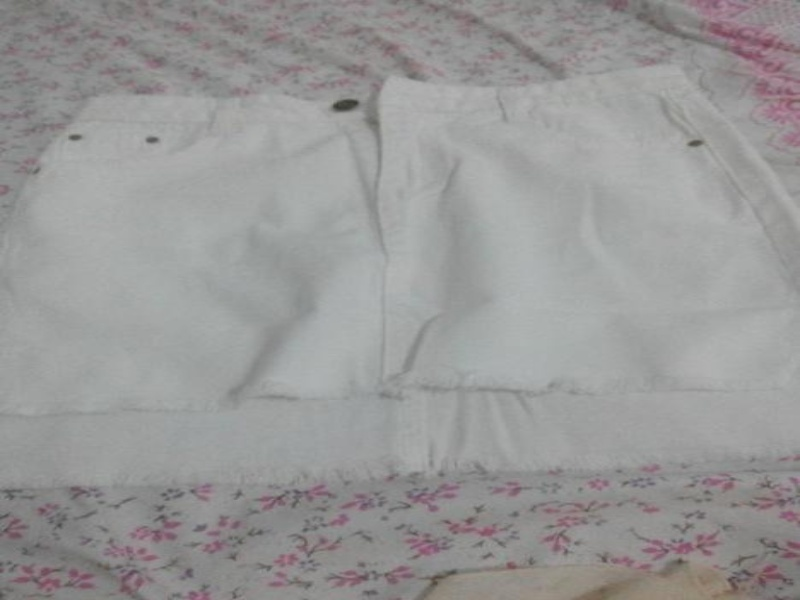skirt: (0, 62, 798, 491)
